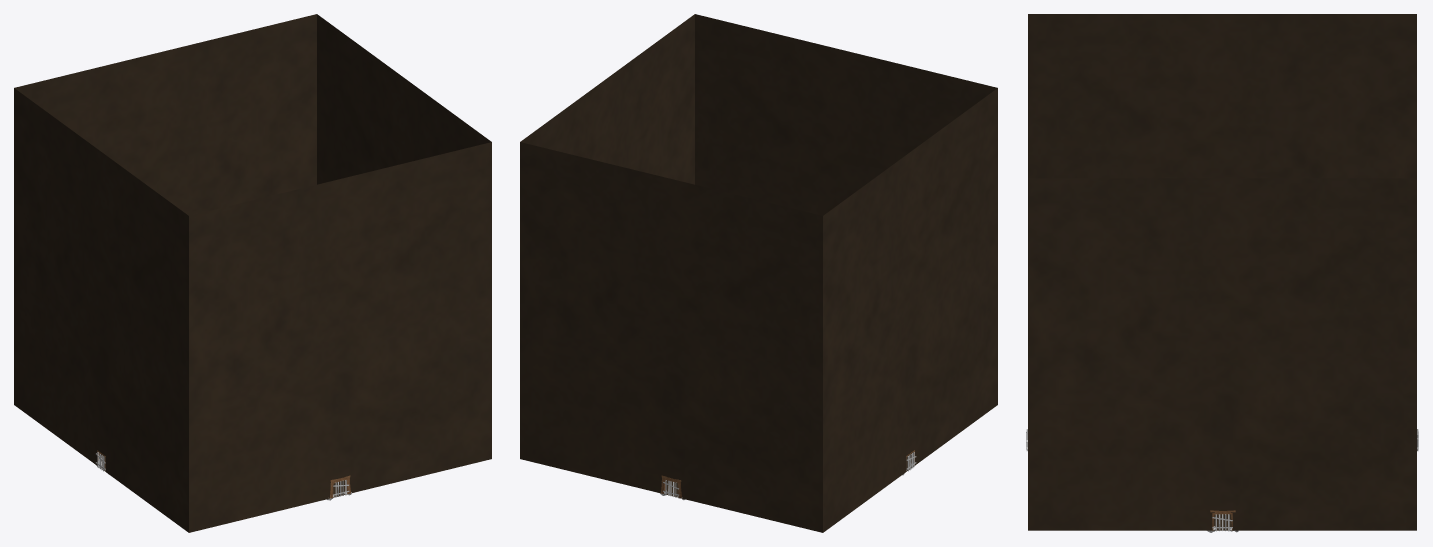
The model's file is Room012.fbx.
The picture shows the model from 3 angles, left to right: view 1: azimuth 30°, elevation 25°; view 2: azimuth 150°, elevation 25°; view 3: azimuth 270°, elevation 25°; orthographic projection. The views are drawn at different scales.
Visible parts, largest first — view 1: 4ParedN, 3ParedE, 2ParedS, 1ParedW, 4Pared.002N, 4Pared.001N, 3Pared.002E, 3Pared.001E; view 2: 2ParedS, 3ParedE, 4ParedN, 1ParedW, 2Pared.001S, 2Pared.002S, 3Pared.001E, 3Pared.002E; view 3: 1ParedW, 3ParedE, 1Pared.002W, 1Pared.001W.
Part boxes in pixels (bbox=[...]): 4ParedN: bbox=[189, 142, 491, 516]; 3ParedE: bbox=[14, 88, 188, 516]; 2ParedS: bbox=[14, 14, 316, 215]; 1ParedW: bbox=[317, 14, 491, 184]; 4Pared.002N: bbox=[350, 443, 491, 493]; 4Pared.001N: bbox=[189, 482, 330, 532]; 3Pared.002E: bbox=[106, 456, 188, 532]; 3Pared.001E: bbox=[14, 389, 96, 465]; 2ParedS: bbox=[520, 142, 822, 516]; 3ParedE: bbox=[823, 88, 997, 516]; 4ParedN: bbox=[695, 14, 997, 215]; 1ParedW: bbox=[520, 14, 694, 184]; 2Pared.001S: bbox=[680, 482, 822, 532]; 2Pared.002S: bbox=[520, 443, 663, 493]; 3Pared.001E: bbox=[823, 456, 905, 532]; 3Pared.002E: bbox=[915, 389, 997, 465]; 1ParedW: bbox=[1028, 178, 1416, 512]; 3ParedE: bbox=[1028, 14, 1416, 178]; 1Pared.002W: bbox=[1028, 513, 1212, 530]; 1Pared.001W: bbox=[1232, 513, 1416, 530].
Size of the model in its own units: 9691 by 10160 by 9691.
